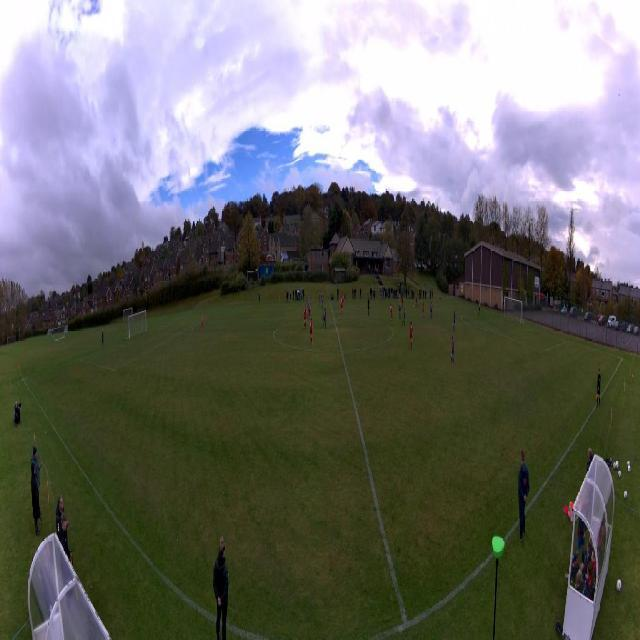ball: (413, 304, 414, 308)
player: (310, 318, 315, 344), (451, 338, 455, 365), (409, 322, 413, 349), (303, 306, 307, 328), (402, 306, 406, 327), (322, 309, 326, 329), (367, 298, 371, 317), (389, 303, 393, 321), (201, 314, 205, 332), (308, 302, 312, 319), (340, 297, 344, 313), (453, 311, 456, 331), (430, 301, 433, 319), (398, 303, 401, 320), (478, 302, 481, 318), (341, 295, 345, 307), (318, 293, 321, 308), (321, 293, 324, 308), (308, 296, 312, 306), (422, 301, 424, 319), (415, 295, 418, 307), (401, 294, 403, 309), (380, 289, 382, 301)
